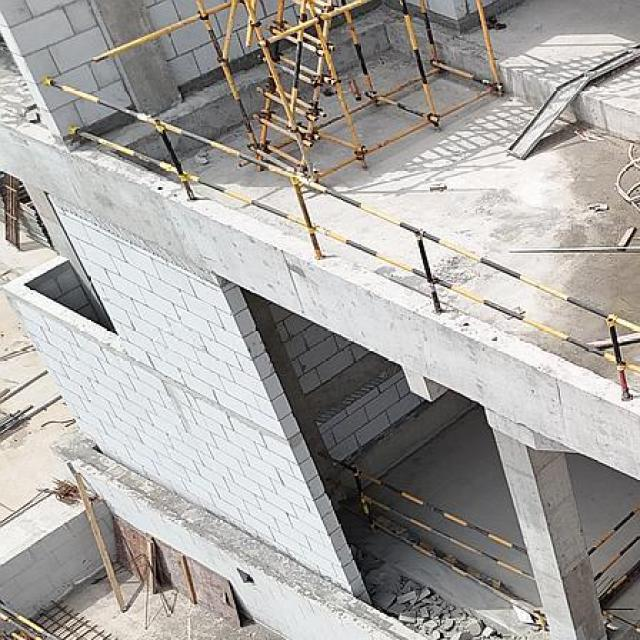Guardrail: (43, 77, 640, 402), (318, 452, 535, 601), (585, 505, 640, 635), (0, 601, 59, 640)
